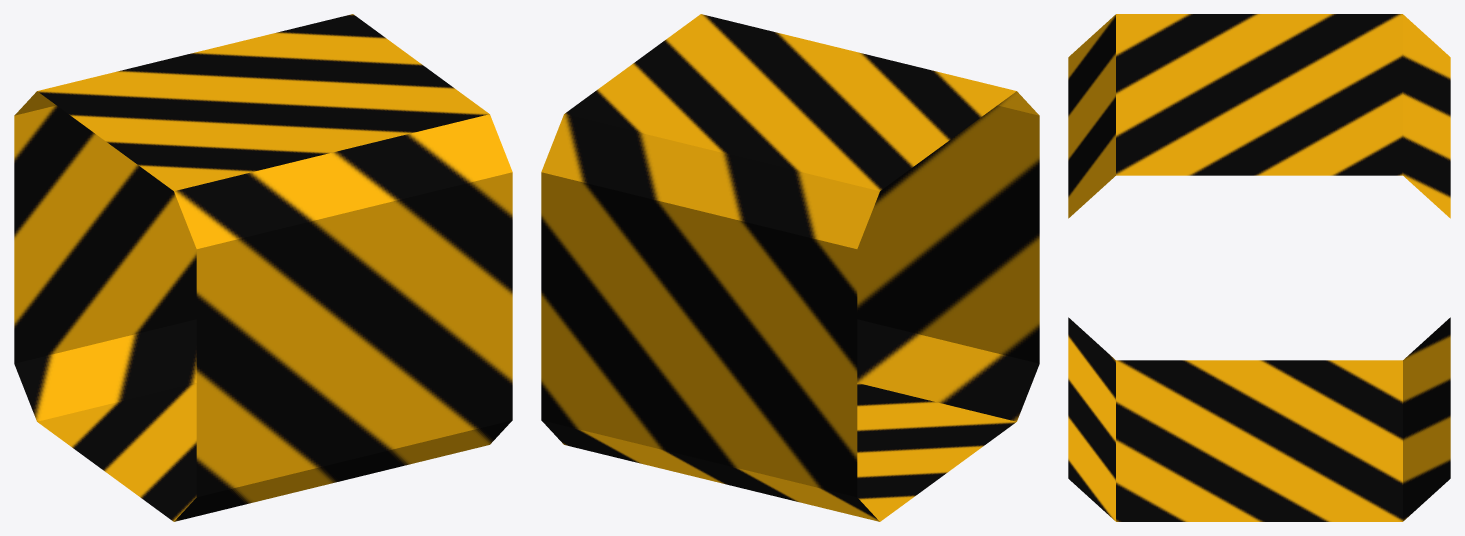
File: Bevel_6.fbx
3 renders of one model, left to right at view 1: azimuth 30°, elevation 25°; view 2: azimuth 150°, elevation 25°; view 3: azimuth 270°, elevation 25°, orthographic. The views are drawn at different scales.
Parts seen in each view (by area): view 1: Bevel_6; view 2: Bevel_6; view 3: Bevel_6.
Part boxes in pixels (x1,y1,x2,y2): Bevel_6: (14, 14, 512, 521); Bevel_6: (541, 14, 1039, 521); Bevel_6: (1068, 14, 1450, 521).
Bounding box in the file's own units: 10000 × 10000 × 10000.
